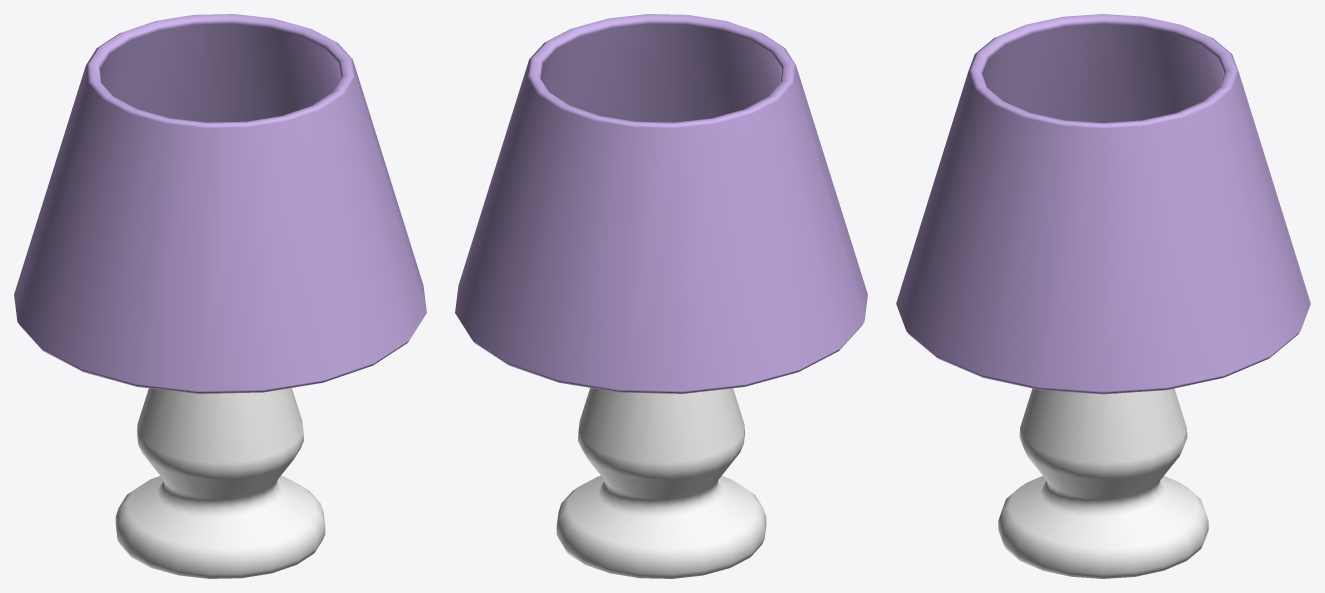
File: Lamp_9.glb
3 views of the same model, side by side, from view 1: azimuth 30°, elevation 25°; view 2: azimuth 150°, elevation 25°; view 3: azimuth 270°, elevation 25° (orthographic).
Visible parts, largest first — view 1: Lamp_9; view 2: Lamp_9; view 3: Lamp_9.
Boxes of the visible parts, x1,y1,x2,y2 form: Lamp_9: (14, 14, 426, 578); Lamp_9: (455, 14, 867, 578); Lamp_9: (896, 14, 1310, 578).
Bounding box in the file's own units: 0.3618 × 0.4512 × 0.3618.
2 materials, 1 textured.
